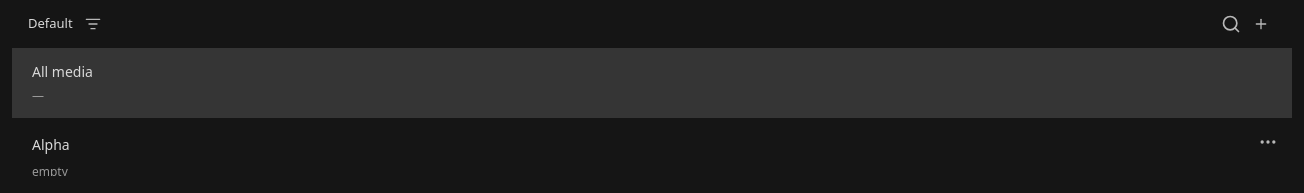
Test: VaultFolderRail sort › a picked sort OF took is the label, the same one stored
Click the button titled "The sort last set here".
click(66, 24)  # box [28,12,105,36]
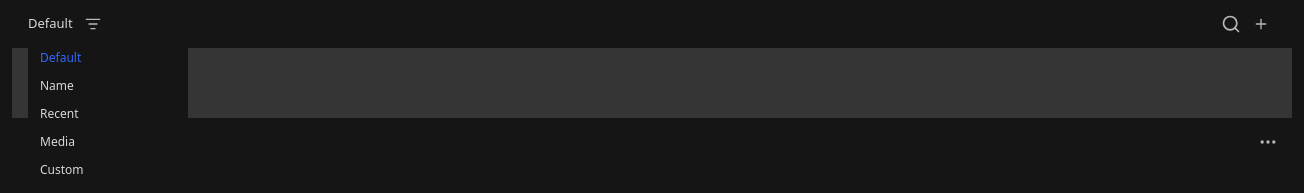
Click the menu item "Name".
click(108, 86)  # box [28,72,188,100]
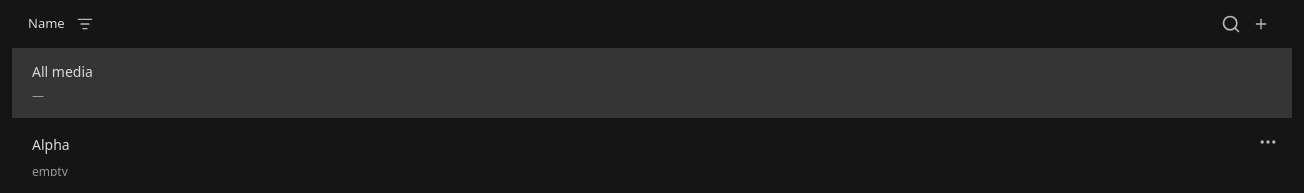
Check: the text "Name" is shown, box [28,14,65,34]
